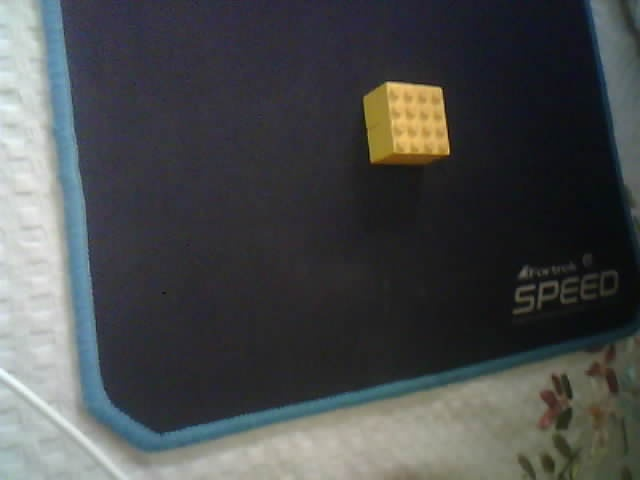lego: (360, 80, 451, 166)
